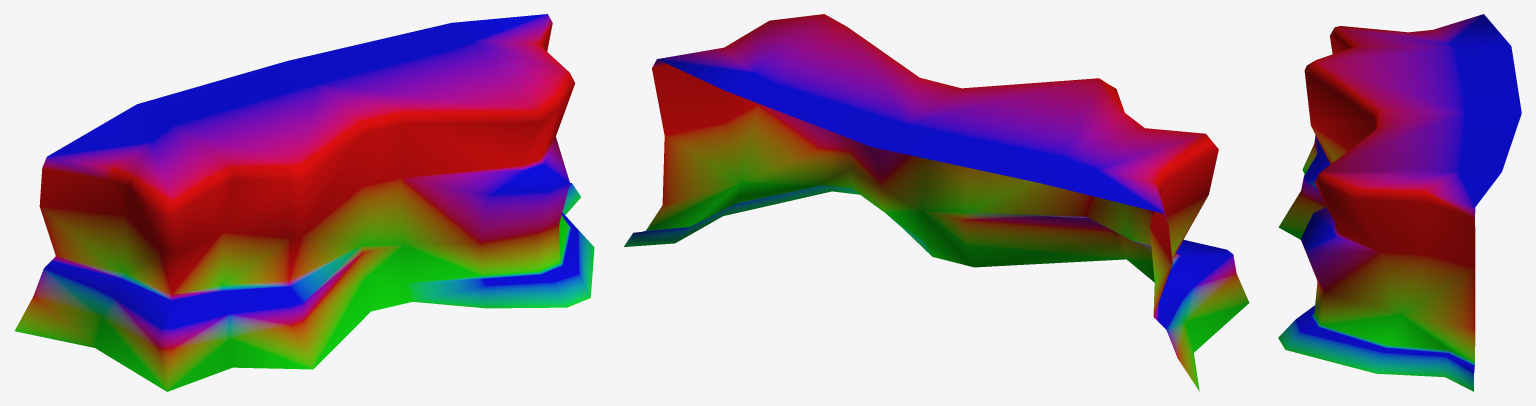
File: M_Rock_Cliff_A.FBX
3 views of the same model, side by side, from view 1: azimuth 30°, elevation 25°; view 2: azimuth 150°, elevation 25°; view 3: azimuth 270°, elevation 25° (orthographic). The views are drawn at different scales.
Visible parts, largest first — view 1: Rock_Cliff_A; view 2: Rock_Cliff_A; view 3: Rock_Cliff_A.
Part boxes in pixels (<box>): Rock_Cliff_A: <box>15,14,594,391</box>; Rock_Cliff_A: <box>624,14,1249,391</box>; Rock_Cliff_A: <box>1278,14,1521,391</box>.
Size of the model in its own units: 1132 by 371 by 476.
